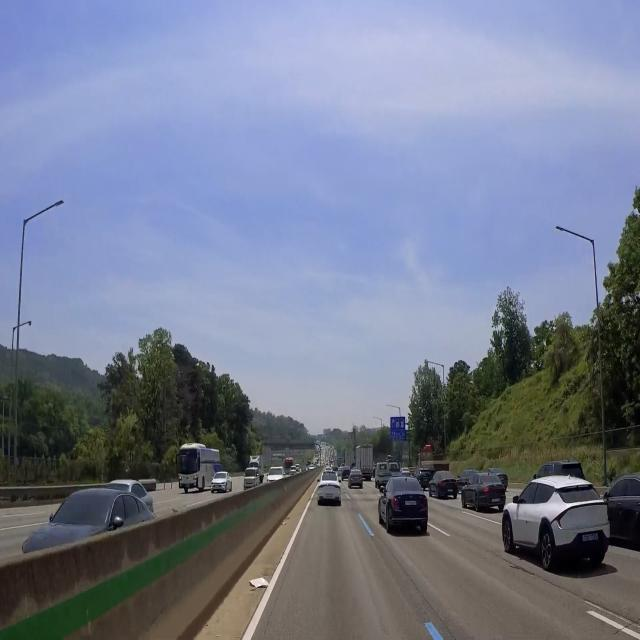car: (582, 532, 598, 542), (404, 500, 418, 508), (324, 492, 334, 501), (491, 498, 500, 503), (185, 483, 190, 488), (448, 489, 454, 493), (214, 485, 220, 489)
carev: (583, 534, 586, 542), (595, 532, 598, 540)
